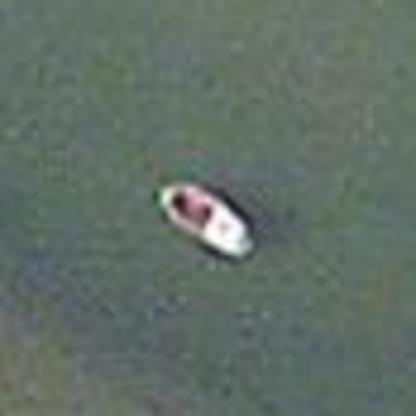ship: (147, 172, 261, 265)
